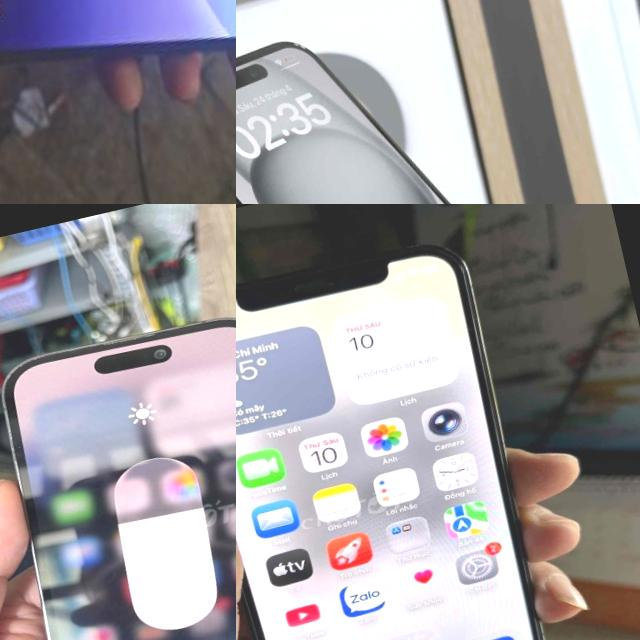gen_12_13: (236, 217, 583, 640)
gen_14: (0, 298, 236, 640)
gen_15: (236, 0, 636, 204)
gen_x_xs: (0, 0, 236, 170)
